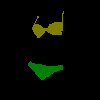mutande: (28, 60, 63, 80)
reggiseno: (32, 9, 64, 38)
